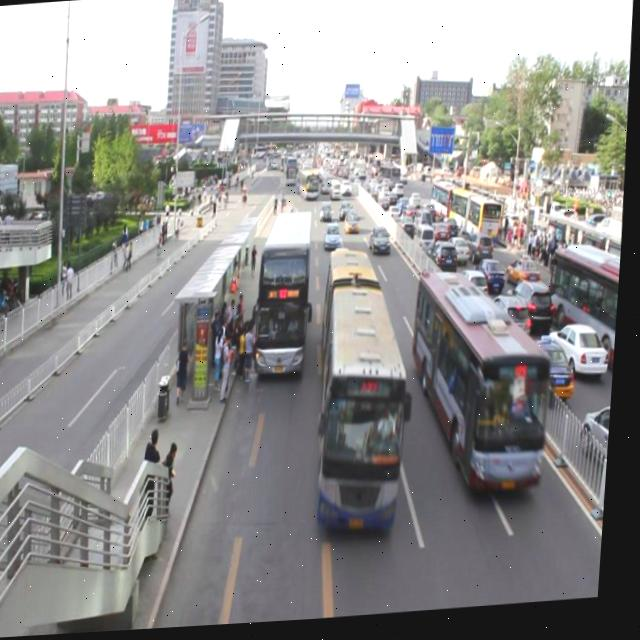car: (371, 228, 394, 258), (325, 225, 344, 254), (346, 215, 361, 236), (322, 203, 334, 225), (342, 182, 354, 203), (341, 204, 353, 222), (322, 180, 332, 196)
truck: (331, 182, 343, 204)
van: (411, 267, 558, 504), (315, 246, 418, 540), (257, 216, 315, 380), (296, 170, 322, 203)
